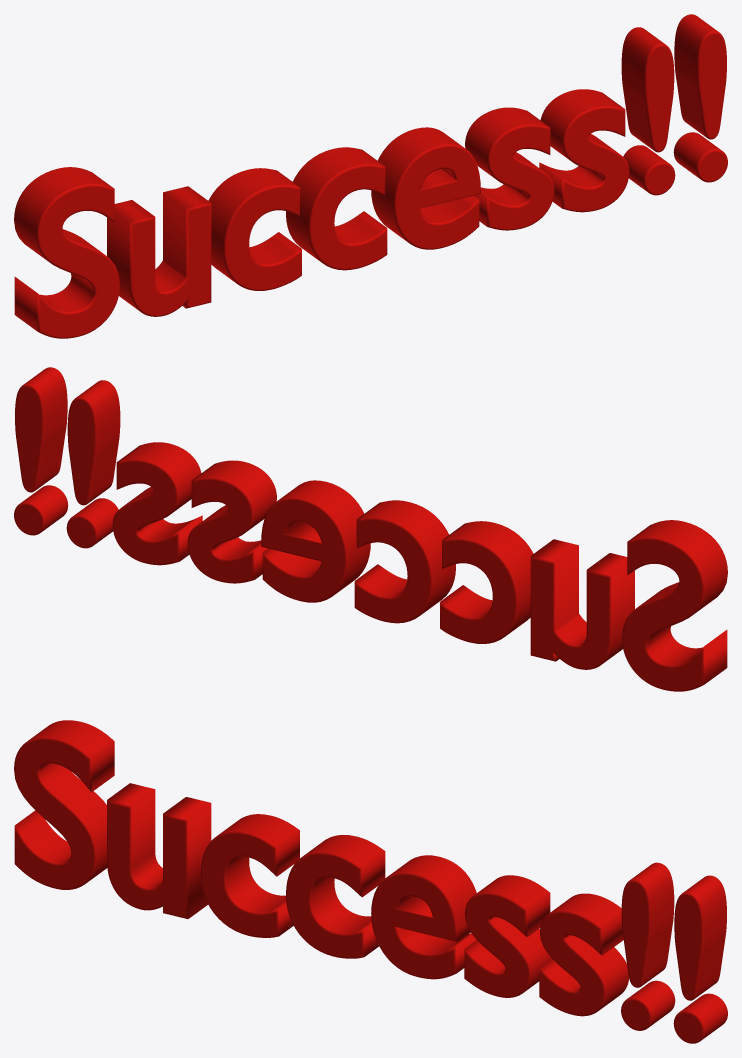
Rendered from Success.fbx.
3 views of the same model, one above another, from view 1: azimuth 30°, elevation 25°; view 2: azimuth 150°, elevation 25°; view 3: azimuth 330°, elevation 25° (orthographic).
Visible parts, largest first — view 1: Text; view 2: Text; view 3: Text.
Part boxes in pixels (x1=…): Text: x1=14, y1=14, x2=727, y2=338; Text: x1=14, y1=367, x2=727, y2=691; Text: x1=14, y1=720, x2=727, y2=1043.
Size of the model in its own units: 355 by 74.02 by 22.
